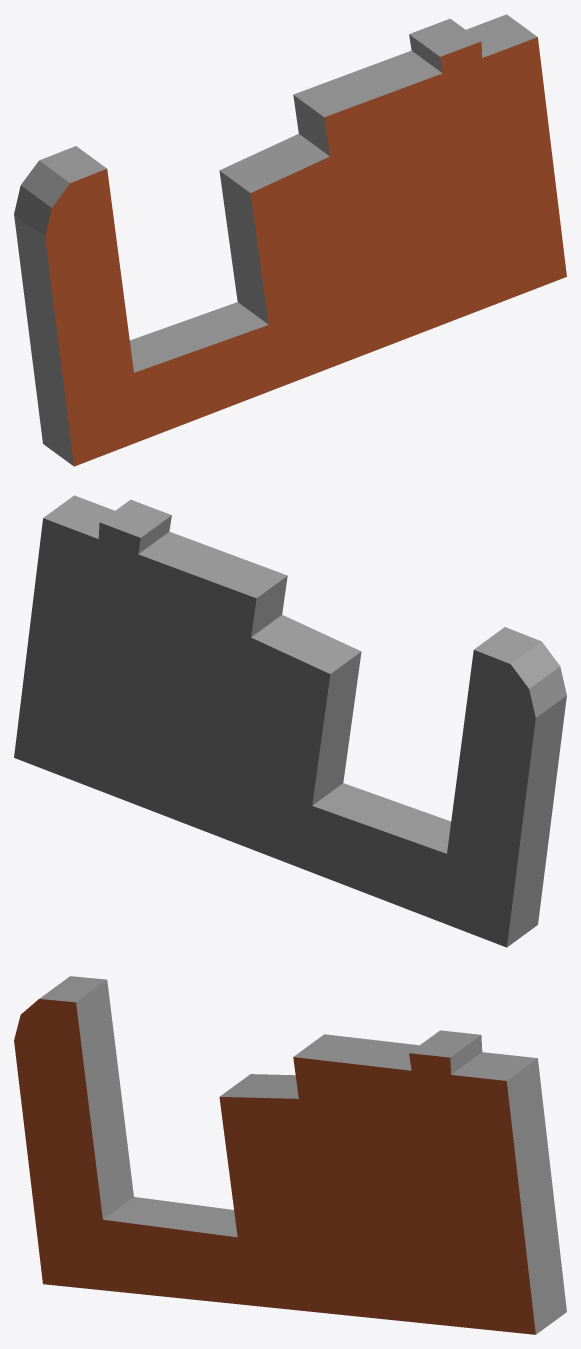
Rendered from construction_4248_assumed_A_Casa_h6m.obj.
3 views of the same model, one above another, from view 1: azimuth 30°, elevation 25°; view 2: azimuth 150°, elevation 25°; view 3: azimuth 330°, elevation 25° (orthographic).
Parts seen in each view (by area): view 1: construction_4248_assumed_A_Casa; view 2: construction_4248_assumed_A_Casa; view 3: construction_4248_assumed_A_Casa.
Part boxes in pixels (x1,y1,x2,y2): construction_4248_assumed_A_Casa: (14, 14, 566, 466); construction_4248_assumed_A_Casa: (14, 495, 566, 947); construction_4248_assumed_A_Casa: (14, 976, 566, 1334).
Bounding box in the file's own units: 58.04 × 34.64 × 6.
